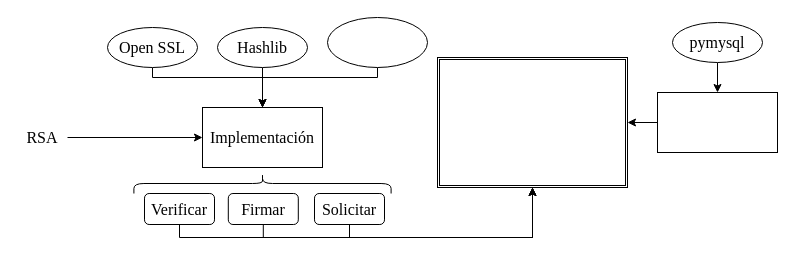
The diagram is 795 pixels wide and 263 high, and some of its shapes have lost their labels. The shapes that lost their labels are listed below. From the top down, each one's centre as x and y in pixels, then its label:
At [377,42]: "Cryptography".
At [532,122]: "GUI Streamlit".
At [717,122]: "Administración de datos".
